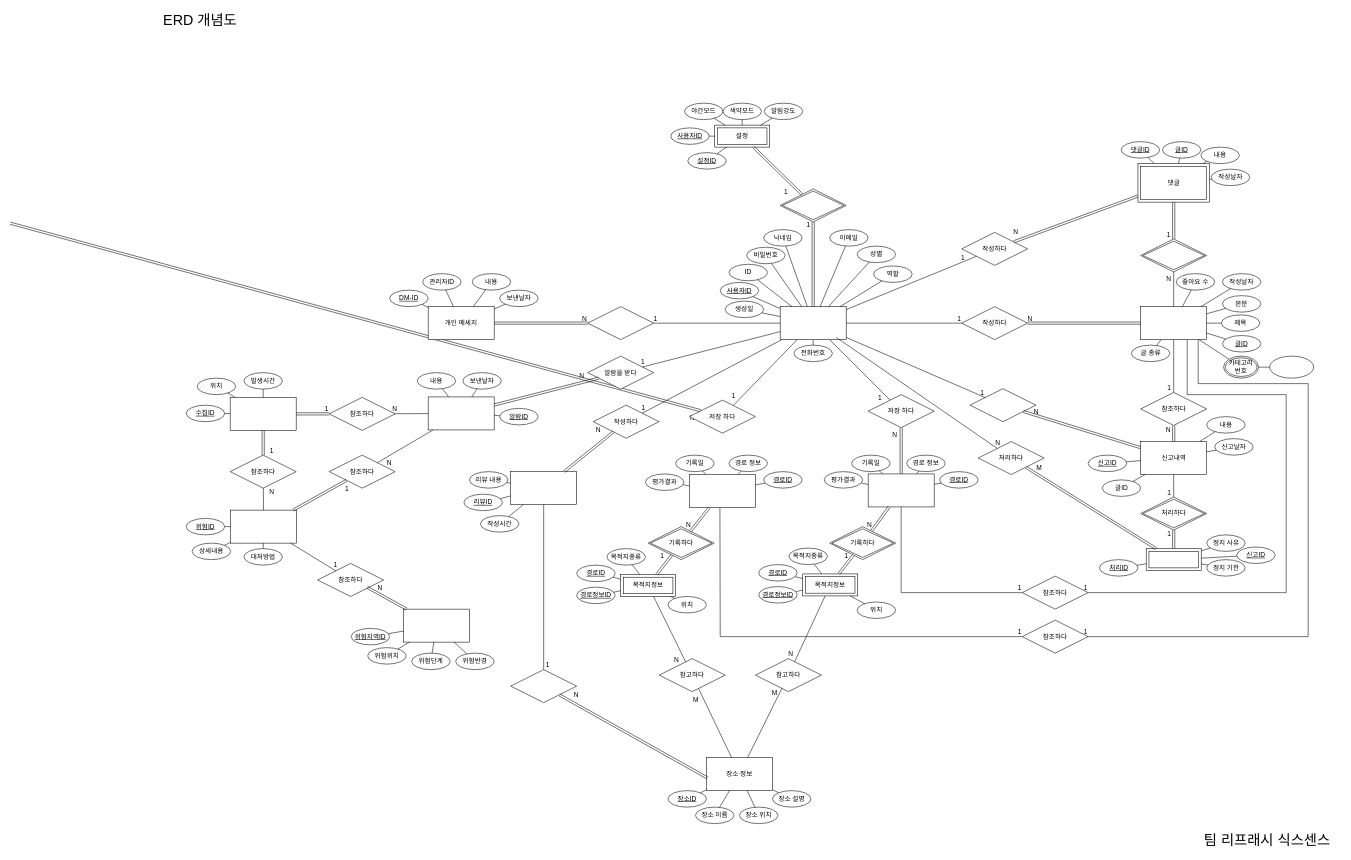
This 1351x860 diagram has some shape labels left out. Here are the shapes that lost their labels. From the top down, the centre of each, then its label:
At (x=813, y=205): "기록 하다".
At (x=1173, y=255): "등록되다".
At (x=620, y=323): "메세지를 받다".
At (x=813, y=323): "사용자".
At (x=1173, y=323): "경로 게시판".
At (x=1291, y=367): "카테고리 세부 사항".
At (x=263, y=413): "실시간 위험 수집".
At (x=461, y=413): "실시간 위험 알람".
At (x=1002, y=405): "신고하다".
At (x=543, y=488): "장소 리뷰".
At (x=722, y=491): "즐겨찾기 경로".
At (x=901, y=490): "자신 경로".
At (x=263, y=526): "위험 종류".
At (x=1173, y=559): "신고 처리 결과".
At (x=436, y=625): "위험 지역 기록 정보".
At (x=543, y=686): "기록 되다".
